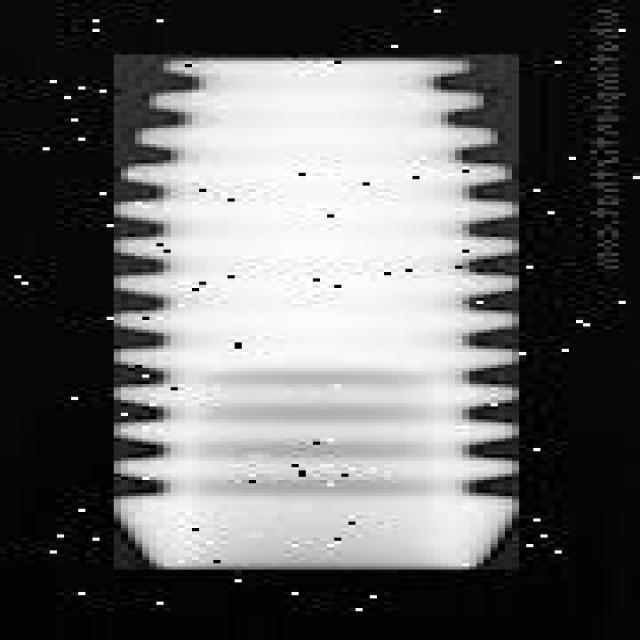OsseoLink Implant: (114, 54, 519, 570)
